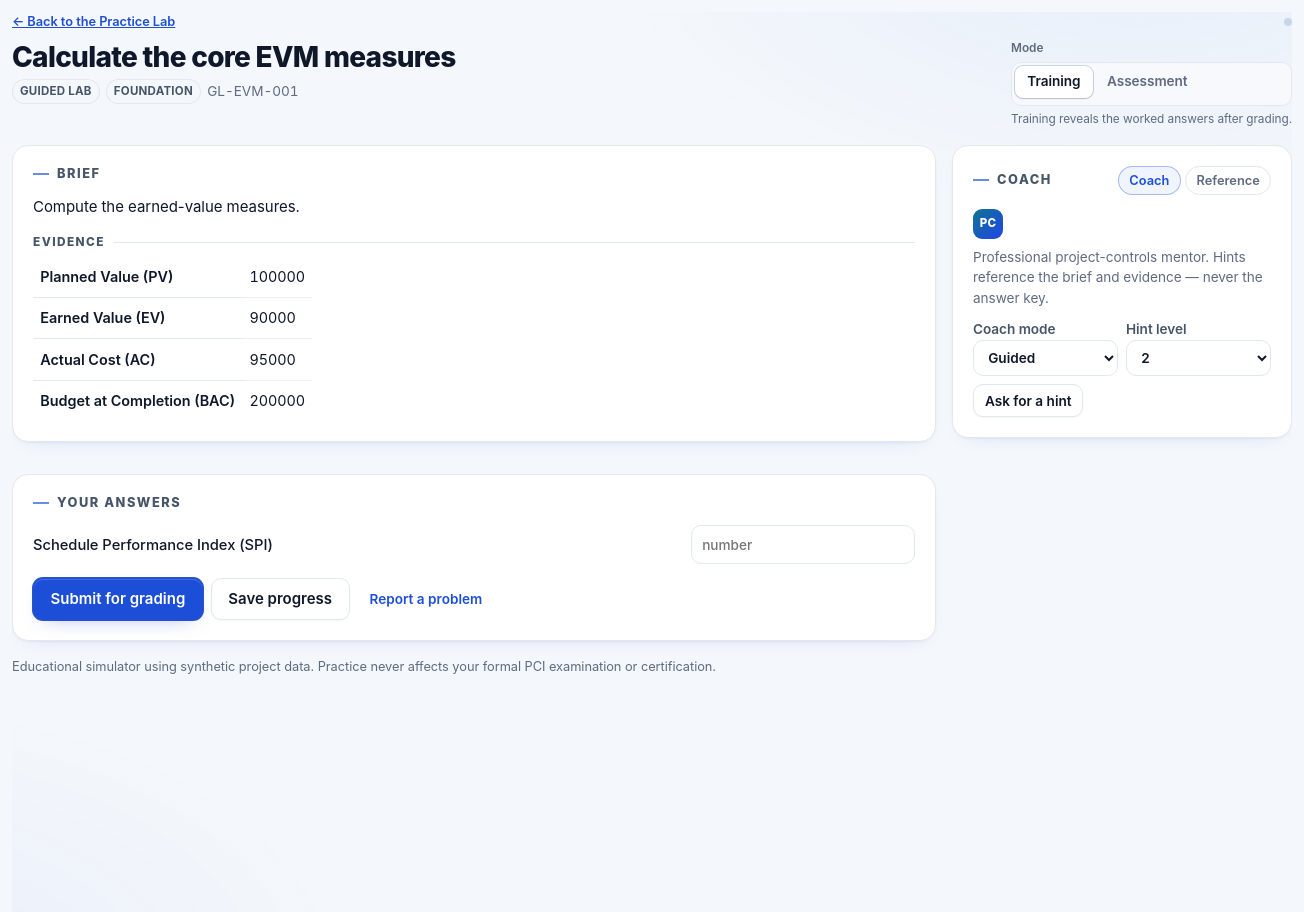
Scenario: LabRunner (Simulation Lab workspace) › shows the save indicator after an explicit save
Expected: the text "Compute the earned-value measures." is shown, x1=33 y1=197 x2=300 y2=216
Click the button "Save progress". click: (280, 599)
box: x1=211 y1=578 x2=350 y2=620
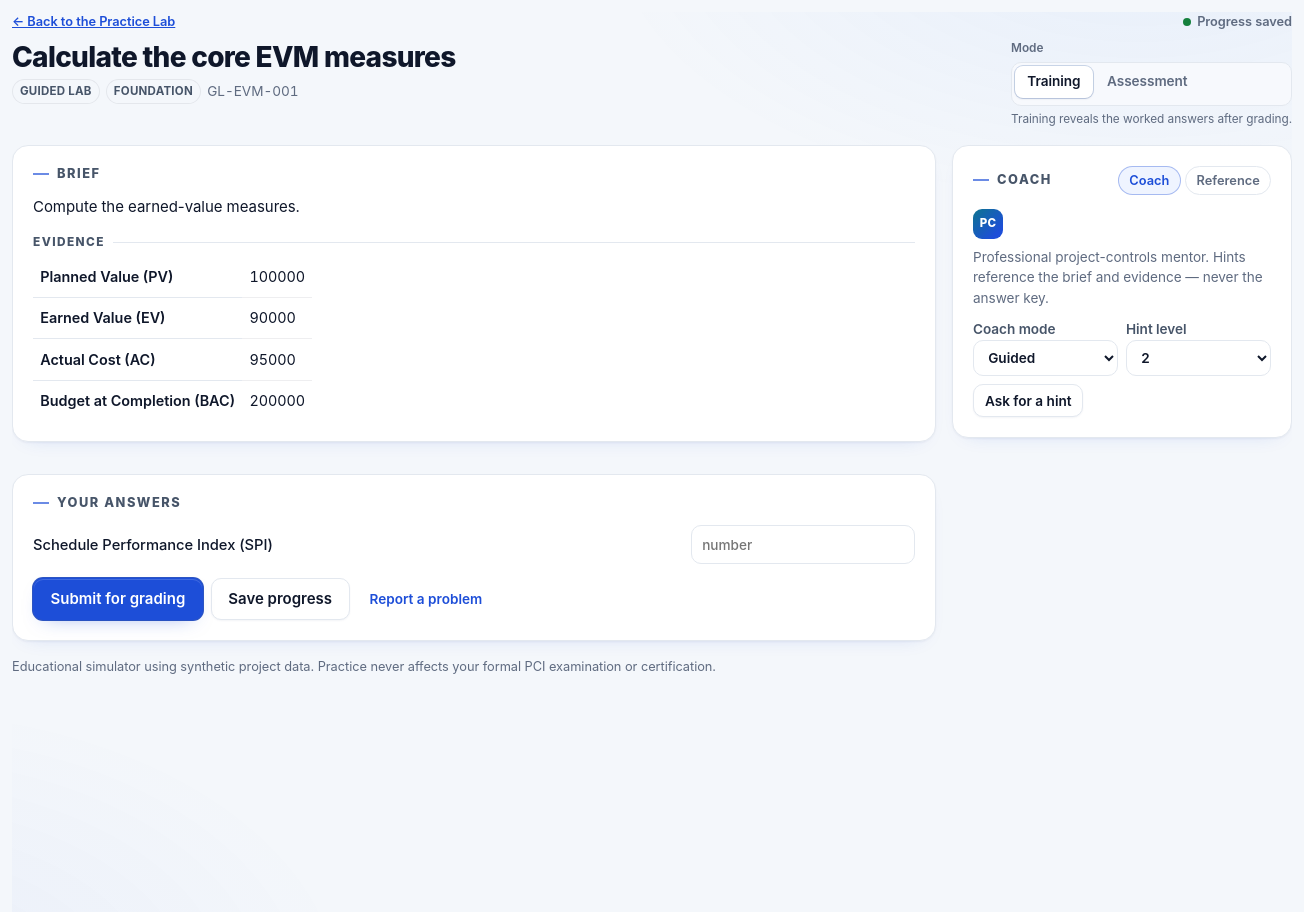
Result: the text "Progress saved" is shown at x1=1197 y1=12 x2=1292 y2=31
